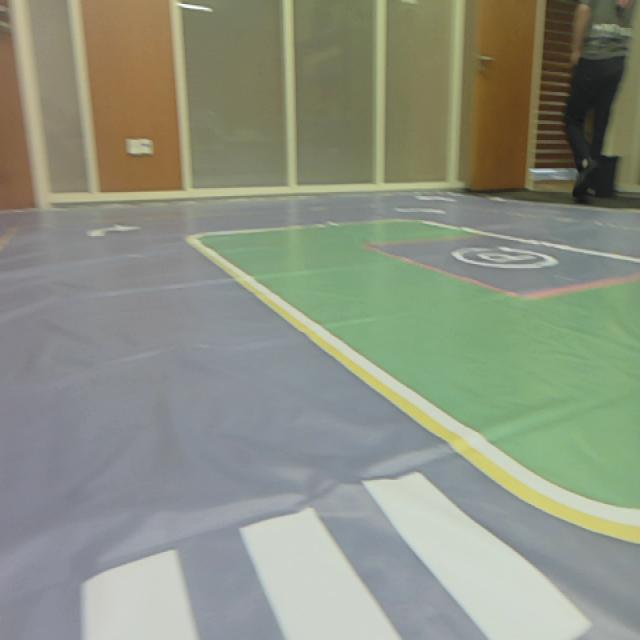left_lane: (0, 226, 19, 256)
right_lane: (190, 242, 552, 511)
